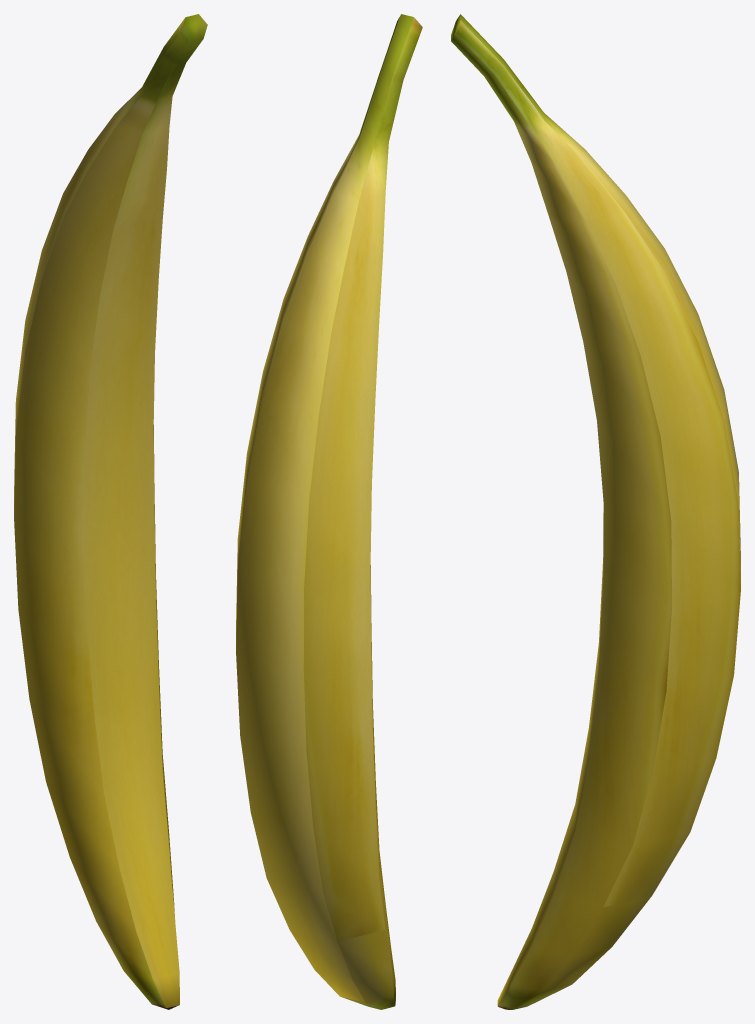
The model's file is banana.fbx.
3 views of the same model, side by side, from view 1: azimuth 30°, elevation 25°; view 2: azimuth 150°, elevation 25°; view 3: azimuth 270°, elevation 25° (orthographic). The views are drawn at different scales.
Visible parts, largest first — view 1: Sphere; view 2: Sphere; view 3: Sphere.
Boxes of the visible parts, <box> form: Sphere: <box>14,14,207,1009</box>; Sphere: <box>236,14,422,1009</box>; Sphere: <box>451,14,740,1009</box>.
Size of the model in its own units: 174 by 1198 by 317.
